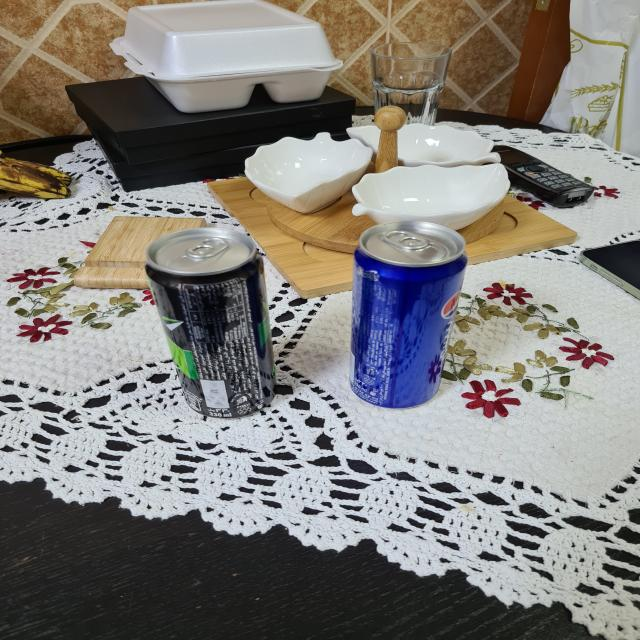non-organic waste: (139, 229, 286, 419), (346, 219, 466, 407)
